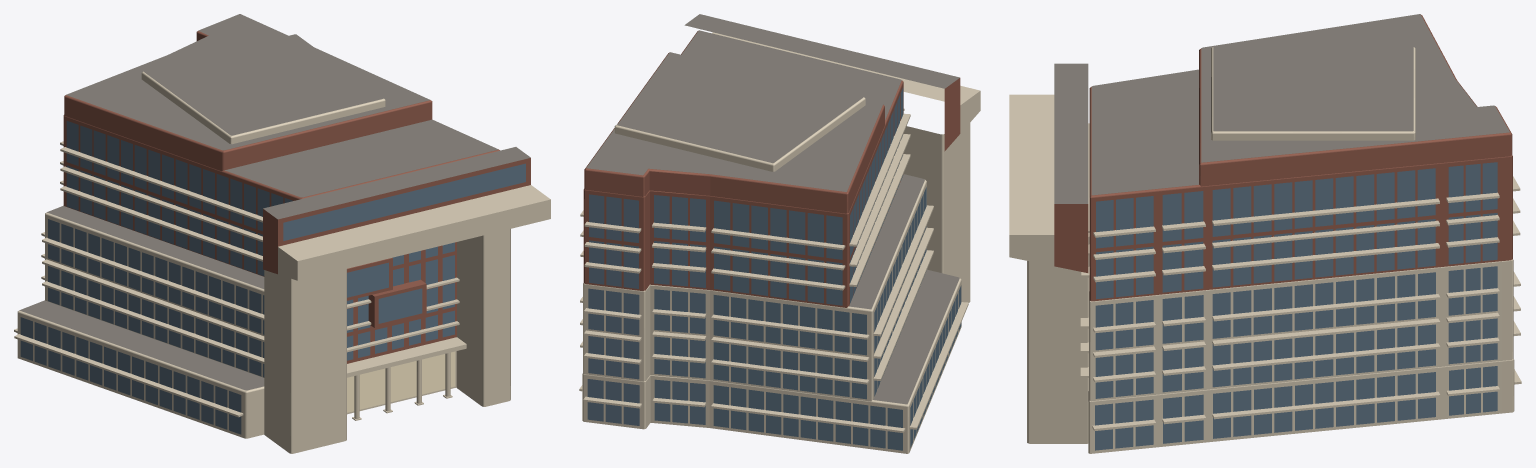
File: amsterdam-oba.glb
3 renders of one model, left to right at view 1: azimuth 30°, elevation 25°; view 2: azimuth 150°, elevation 25°; view 3: azimuth 270°, elevation 25°, orthographic. The views are drawn at different scales.
Visible parts, largest first — view 1: OBA Oosterdok; view 2: OBA Oosterdok; view 3: OBA Oosterdok.
Part boxes in pixels (box(x1,y1,x2,y2)): OBA Oosterdok: box(14, 14, 550, 453); OBA Oosterdok: box(579, 14, 980, 453); OBA Oosterdok: box(1009, 14, 1521, 453).
Bounding box in the file's own units: 69.98 × 46.5 × 75.15.
